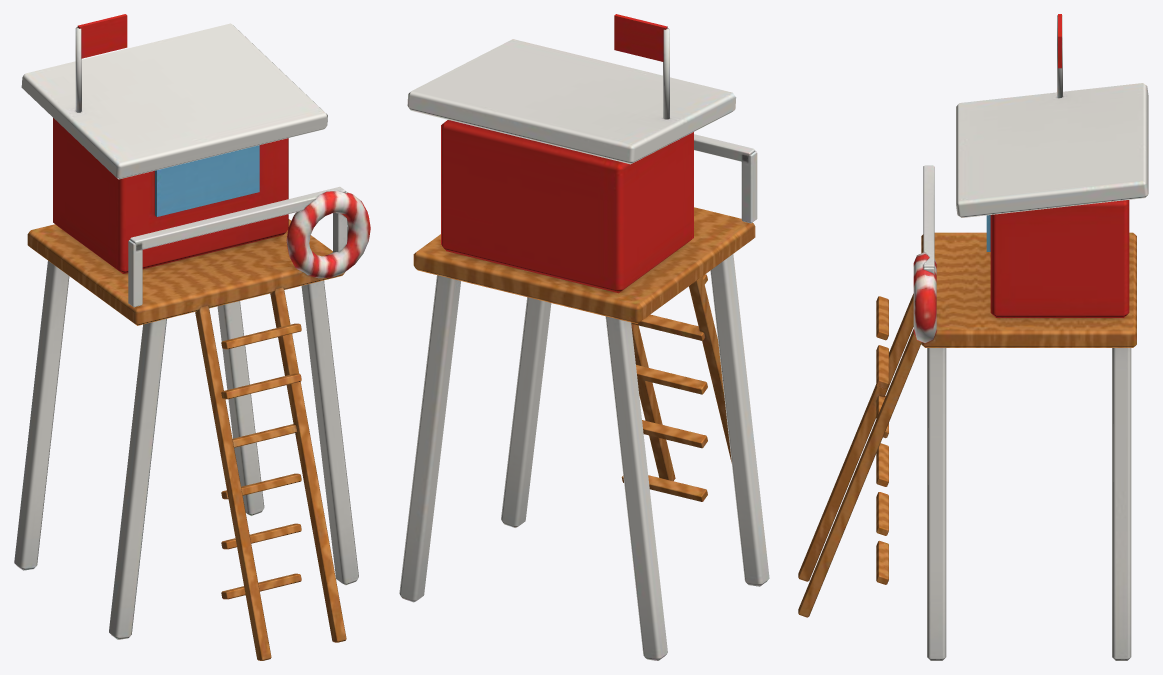
The model's file is lifeguard_tower.glb.
3 renders of one model, left to right at view 1: azimuth 30°, elevation 25°; view 2: azimuth 150°, elevation 25°; view 3: azimuth 270°, elevation 25°, orthographic. The views are drawn at different scales.
Parts seen in each view (by area): view 1: lifeguard_tower; view 2: lifeguard_tower; view 3: lifeguard_tower.
Boxes of the visible parts, box(x1,y1,x2,y2) form: lifeguard_tower: box(14, 14, 370, 660); lifeguard_tower: box(399, 14, 769, 660); lifeguard_tower: box(798, 14, 1148, 660).
Bounding box in the file's own units: 0.7378 × 1.57 × 0.9089.
1 material, 1 textured.
